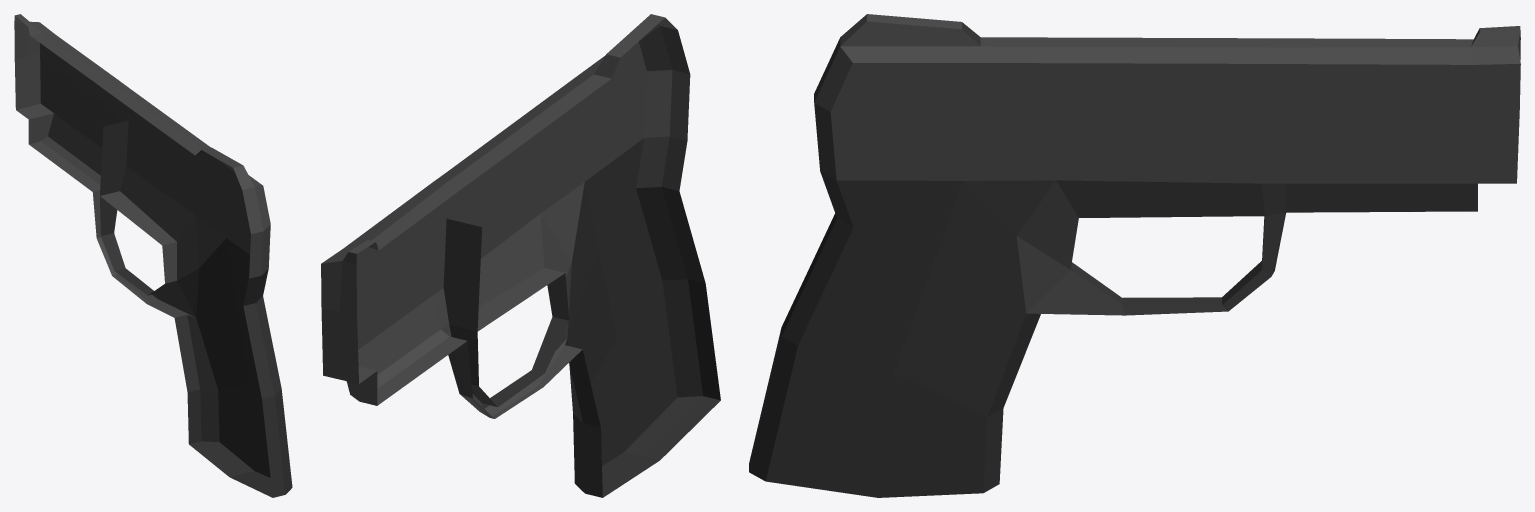
Rendered from pistol.glb.
The picture shows the model from 3 angles, left to right: view 1: azimuth 30°, elevation 25°; view 2: azimuth 150°, elevation 25°; view 3: azimuth 270°, elevation 25°; orthographic projection. The views are drawn at different scales.
Visible parts, largest first — view 1: Cube; view 2: Cube; view 3: Cube.
Boxes of the visible parts, x1=… form: Cube: x1=14, y1=14, x2=292, y2=497; Cube: x1=321, y1=14, x2=720, y2=497; Cube: x1=749, y1=14, x2=1520, y2=497.
Bounding box in the file's own units: 0.0231 × 0.2687 × 0.4036.
1 material, 1 textured.
